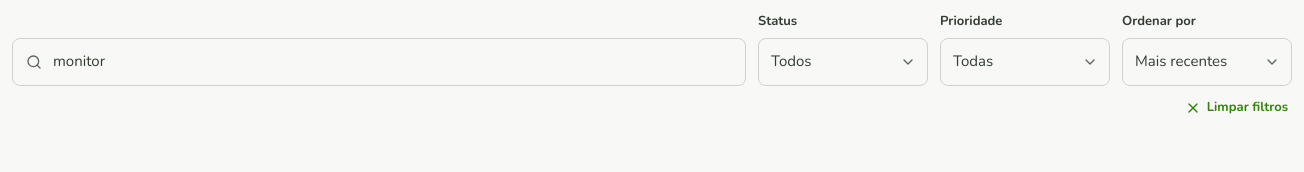
Scenario: RequestFilters › empties the search box when clearing
Click the button "Limpar filtros": coordinates (1236, 108) x1=1181 y1=86 x2=1292 y2=130
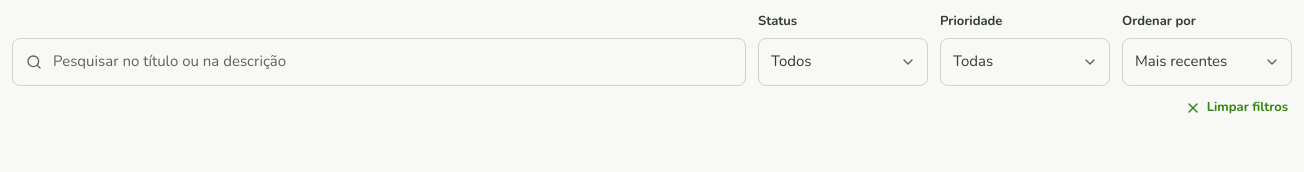
Expected: the search field labelled "Pesquisar" is empty, x1=12 y1=38 x2=746 y2=86
